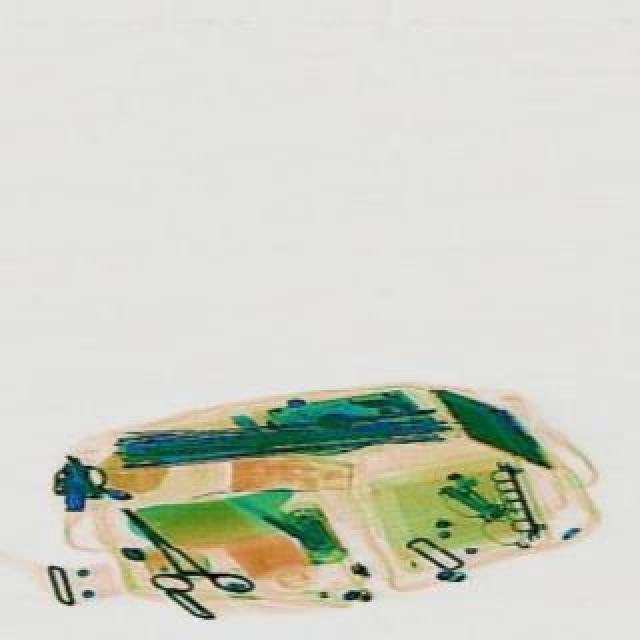pliers: (96, 480, 254, 632)
